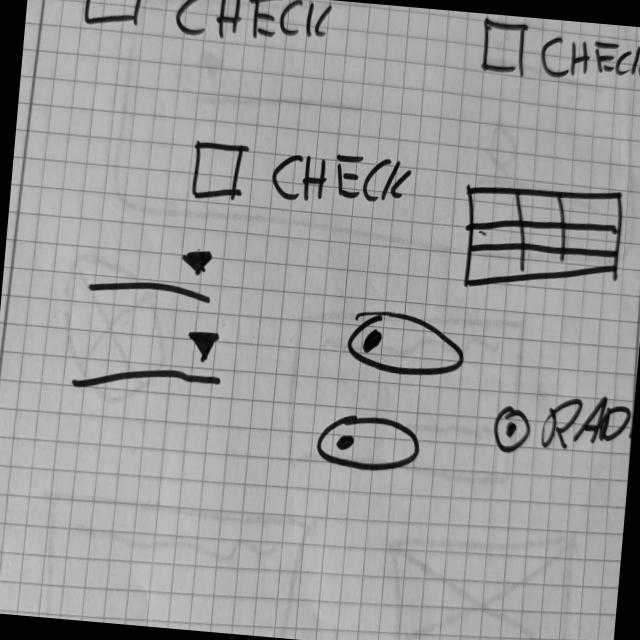checkbox: (190, 136, 417, 220), (82, 1, 336, 55), (478, 16, 640, 95)
radio: (490, 385, 636, 467)
select: (68, 317, 231, 406), (85, 234, 220, 308)
table: (457, 177, 628, 304)
toggle: (345, 304, 471, 384), (314, 408, 425, 478)
